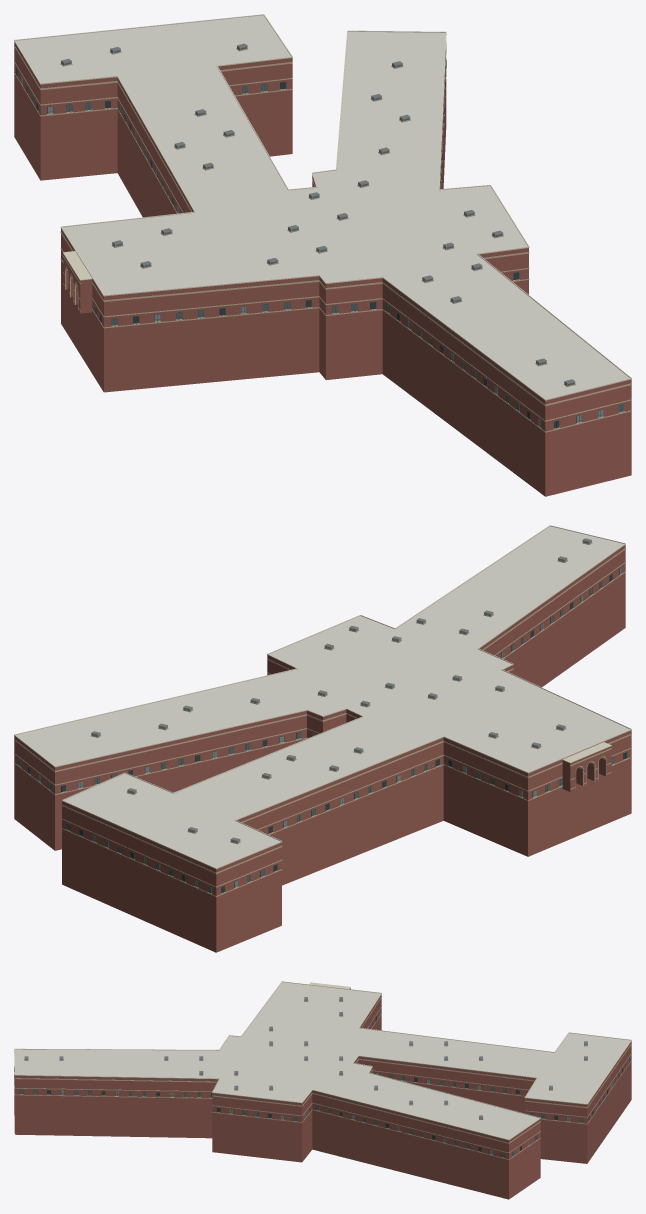
The model's file is lafayette-lower-elementary.glb.
3 views of the same model, one above another, from view 1: azimuth 30°, elevation 25°; view 2: azimuth 150°, elevation 25°; view 3: azimuth 270°, elevation 25° (orthographic). The views are drawn at different scales.
Parts seen in each view (by area): view 1: 856517676 | Roof, 856517676 | lafayette-arcade 1, 856517676 | Facades; view 2: 856517676 | lafayette-arcade 1, 856517676 | Roof, 856517676 | Facades; view 3: 856517676 | lafayette-arcade 1, 856517676 | Roof, 856517676 | Facades.
Part boxes in pixels (x1,y1,x2,y2): 856517676 | Roof: (15, 15, 629, 399); 856517676 | lafayette-arcade 1: (14, 42, 631, 496); 856517676 | Facades: (14, 14, 631, 432); 856517676 | lafayette-arcade 1: (14, 545, 631, 952); 856517676 | Roof: (16, 526, 629, 867); 856517676 | Facades: (14, 525, 631, 896); 856517676 | lafayette-arcade 1: (14, 988, 631, 1199); 856517676 | Roof: (14, 982, 630, 1139); 856517676 | Facades: (14, 981, 631, 1159).
Size of the model in its own units: 129 by 23.32 by 212.
